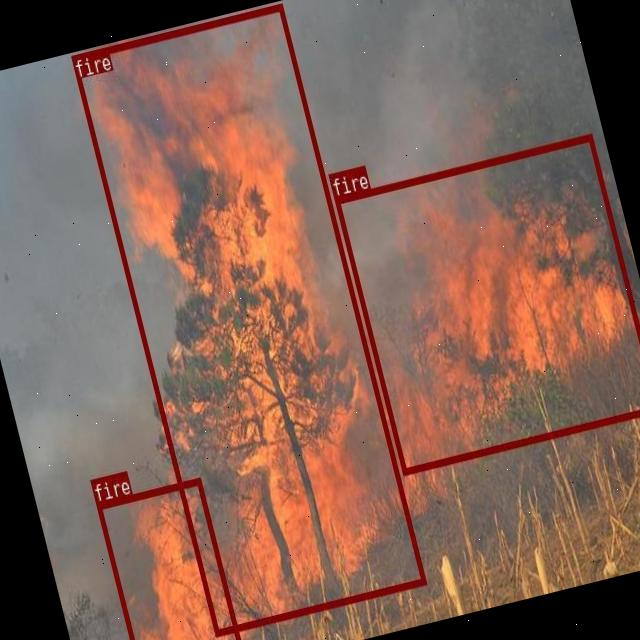fire: (70, 3, 424, 635), (332, 132, 640, 474), (95, 477, 243, 640)
